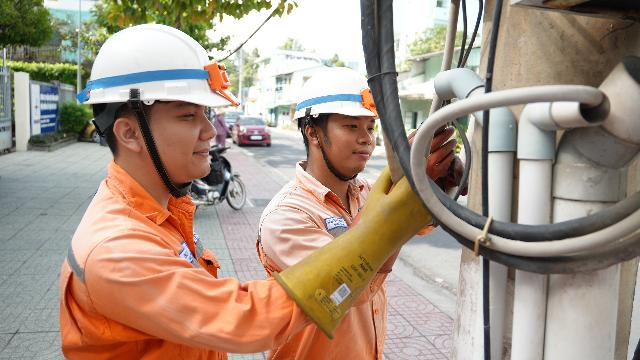gloves: (288, 130, 437, 335), (346, 111, 472, 274)
helmet: (85, 5, 238, 123), (279, 60, 383, 129)
